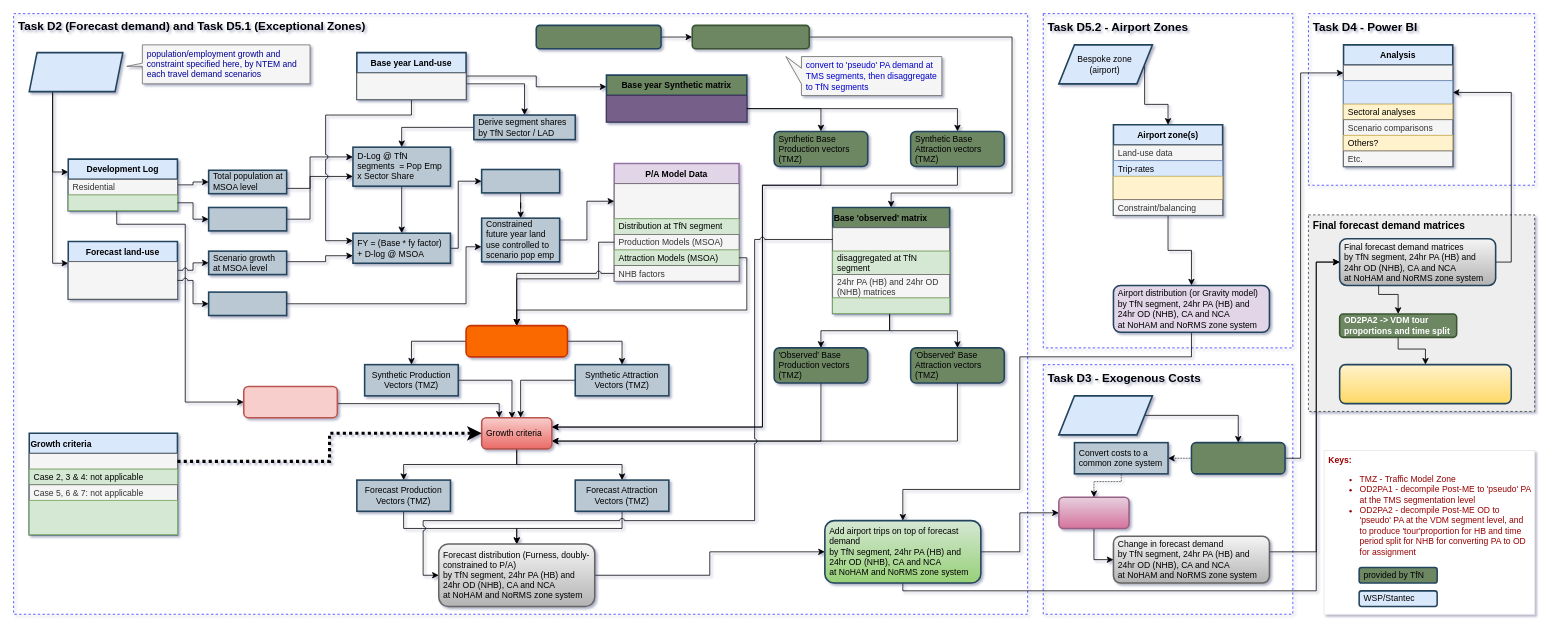
This 1553x633 diagram has some shape labels left out. The centre of each missing label's shape, as x and y in pixels:
Aggregate to VDM segment, at respective NoHAM and NoRMS zone system, CA and NCA: point 1425,383
at respective NoHAM and NoRMS zone system: point 891,239
Base and Forecast costs: point 1105,415
by mode, car available: point 891,305
Case 1: F = 0: point 102,461
Case 8: F = B*(Sf/Sb) - normal F = B*(S2/Sb)+(Sf-S2) - exceptional: point 102,517
Convert P/A Vectors from MSOA to TMZ: point 516,340
Disaggregate from TMS segments to TfN segments: point 676,108
Distribution assumption or Gravity model: point 1168,188
Elasticity calculation: point 1093,512
FY land-use (pop/emp) at MSOA, by individual TfN segment with controlled D-Log: point 676,201
Gross pop/emp @ TfN Sector: point 247,303
Identify exceptional zone(s): point 290,401
Initial FY scenario growth: point 520,180
NoHAM and NoRMs costs by components: point 1237,457
Non-residential: point 122,202
OD2PA1 & disaggregation: point 750,36
Pop/emp at MSOA, by individual TfN segments: point 411,85
Pop/emp growth factors at MSOA, and gross Pop/Emp @ TfN sector: point 122,280
Post-ME demand matrices, by time period and user classes: point 598,36
Purpose splits by TfN segments: point 1398,92
Scenario Definitions and Data: point 75,71
Total employment at MSOA: point 247,218
Trip-length distributions: point 1398,72
